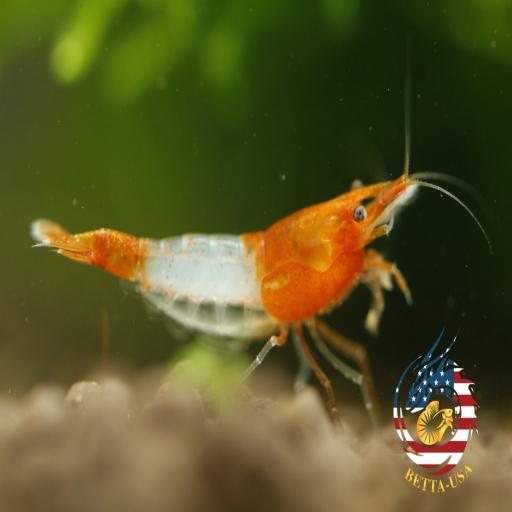Shrimp: (20, 64, 495, 432)
